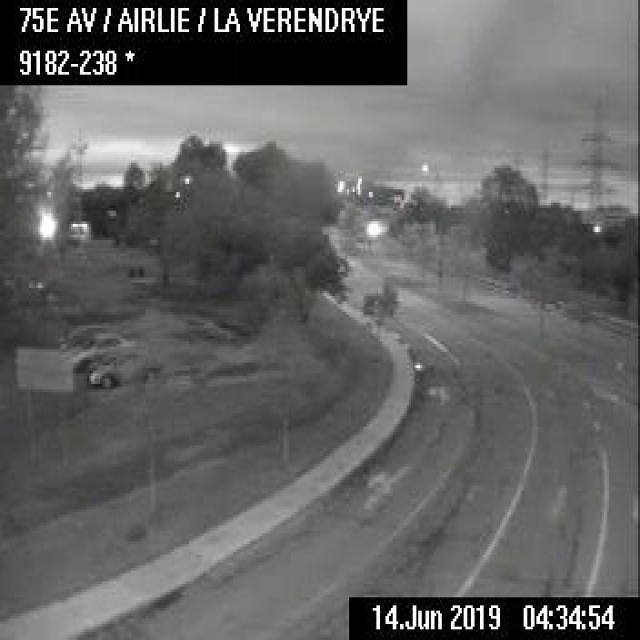vehicle: (86, 347, 158, 388), (73, 332, 136, 371)
